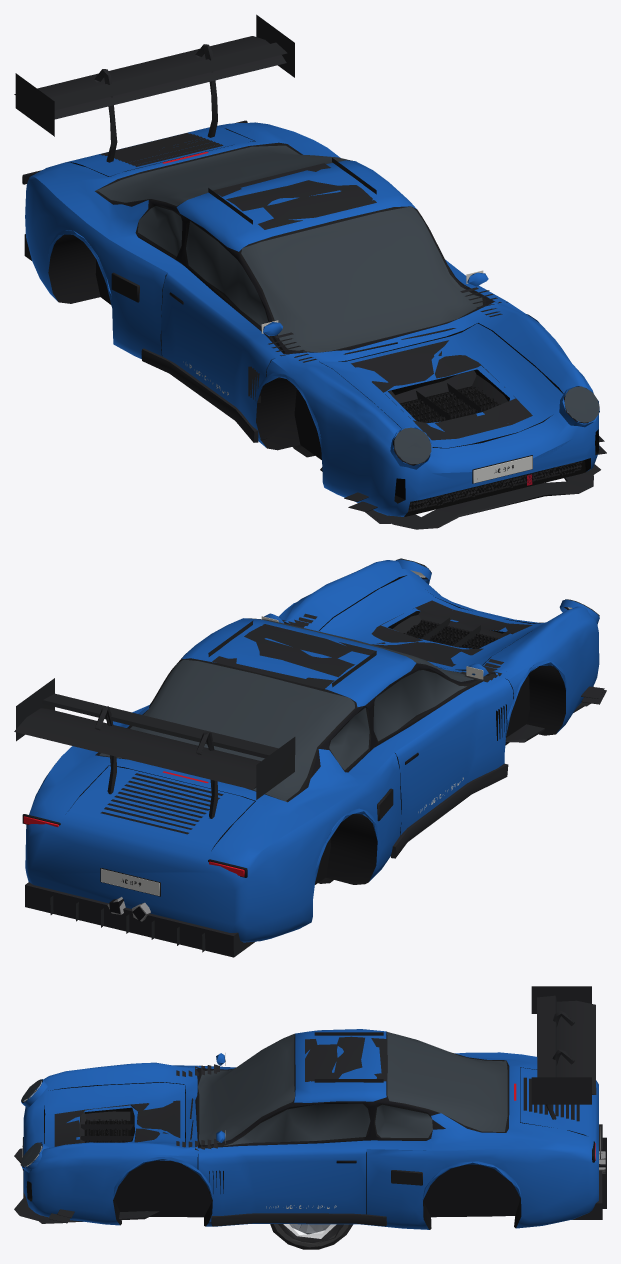
3 views of the same model, one above another, from view 1: azimuth 30°, elevation 25°; view 2: azimuth 150°, elevation 25°; view 3: azimuth 270°, elevation 25° (orthographic). The views are drawn at different scales.
Visible parts, largest first — view 1: body; view 2: body; view 3: body, wheel.
Part boxes in pixels (left/top/right/bottom): body: left=14, top=14, right=606, bottom=529; body: left=14, top=558, right=606, bottom=957; body: left=14, top=986, right=606, bottom=1229; wheel: left=270, top=1224, right=353, bottom=1249.
Bounding box in the file's own units: 1.91 × 1.87 × 4.71.
